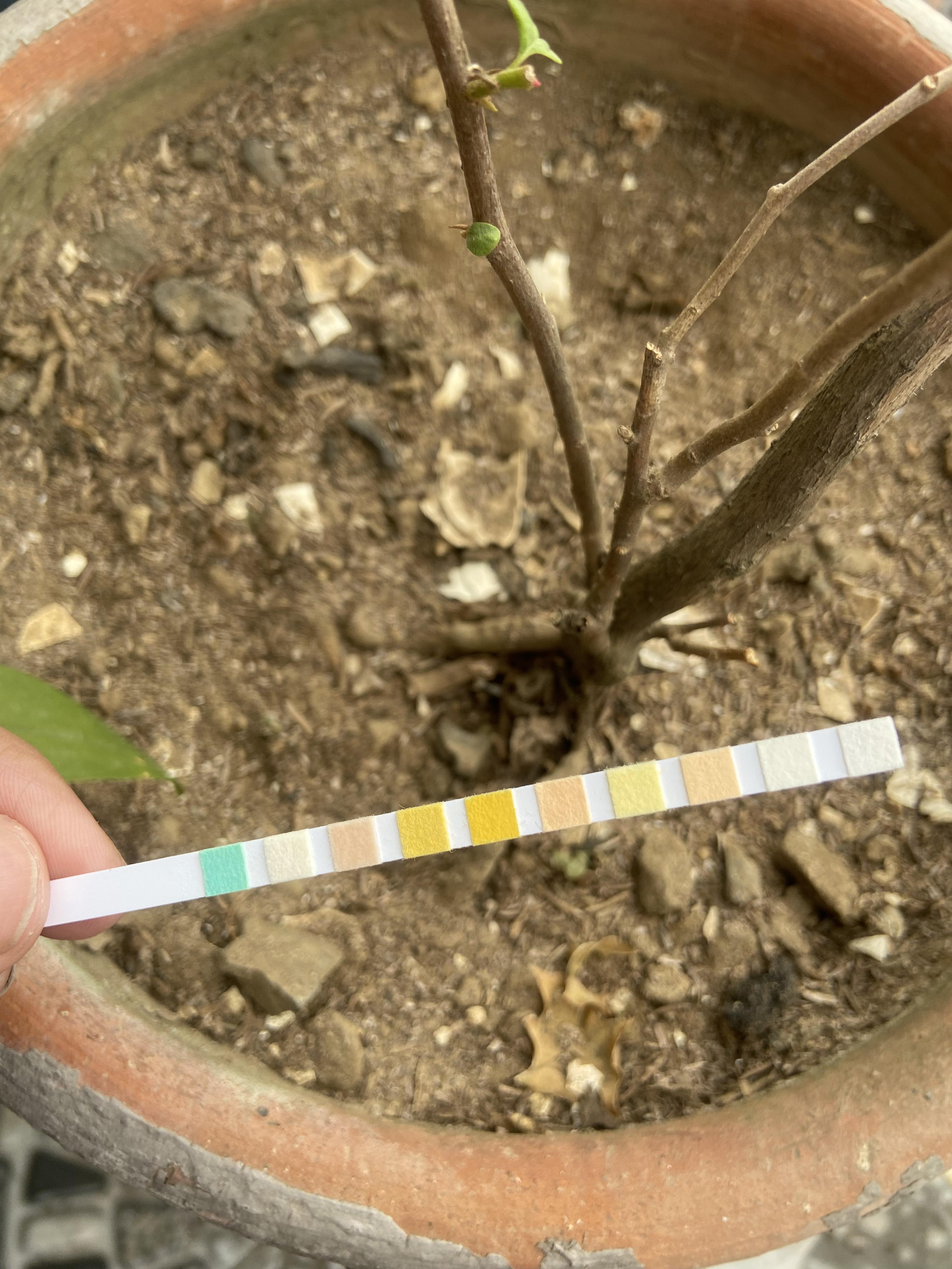Bilirubin: (271, 836, 308, 877)
Blood: (473, 796, 512, 839)
Glucose: (206, 850, 243, 890)
Ketone: (335, 823, 374, 866)
Leukocytes: (848, 724, 893, 769)
Nitrite: (765, 740, 808, 784)
Protein: (615, 768, 655, 812)
SpGravity: (404, 809, 443, 852)
Urobilinogen: (688, 754, 731, 797)
pH: (543, 782, 583, 825)
strip: (58, 716, 904, 925)
